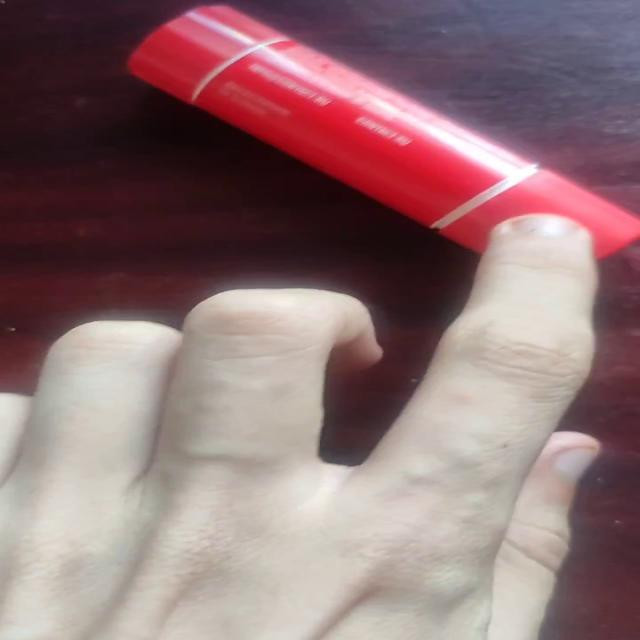glue: (126, 3, 638, 262)
